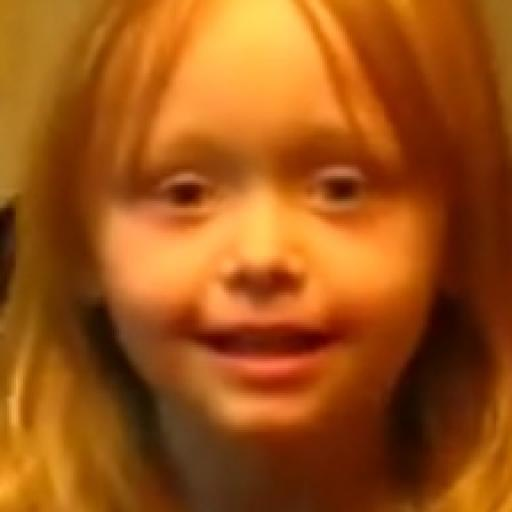Autism: (74, 0, 479, 506)
